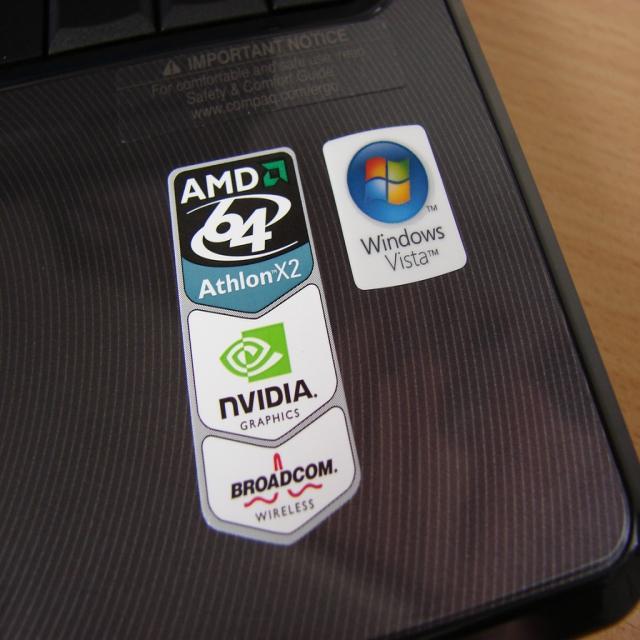nvidia: (222, 324, 293, 386)
